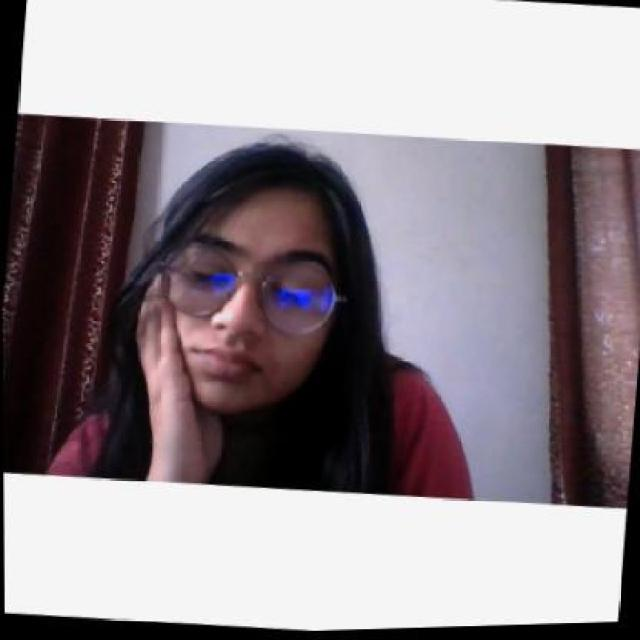inattentif: (152, 131, 362, 423)
